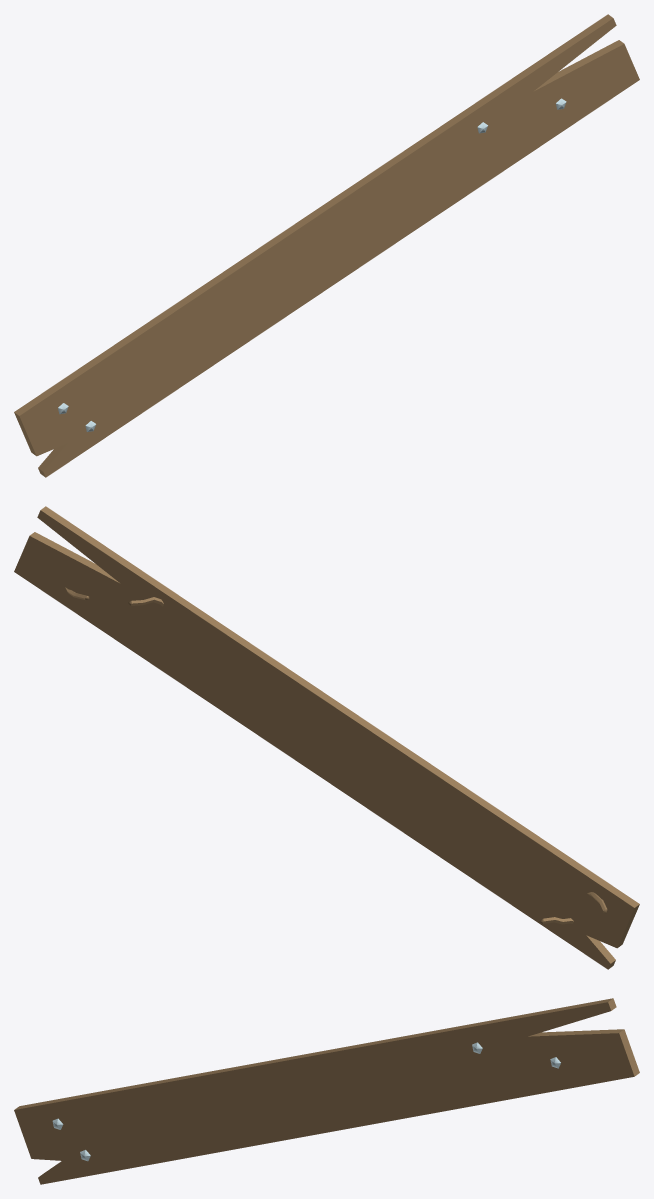
Rendered from Madera.fbx.
3 views of the same model, one above another, from view 1: azimuth 30°, elevation 25°; view 2: azimuth 150°, elevation 25°; view 3: azimuth 330°, elevation 25° (orthographic).
Parts seen in each view (by area): view 1: Madera; view 2: Madera; view 3: Madera.
Boxes of the visible parts, box(x1,y1,x2,y2) form: Madera: box(14, 14, 639, 477); Madera: box(14, 506, 639, 969); Madera: box(14, 998, 639, 1184).
Bounding box in the file's own units: 4.01 × 1.98 × 0.2094.
